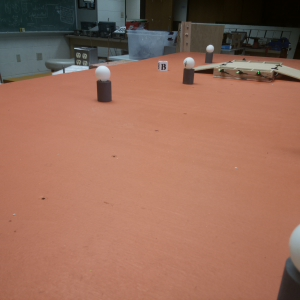blockB: (157, 60, 168, 70)
corner: (179, 21, 191, 53)
obstacle: (277, 222, 300, 291), (95, 66, 114, 102), (183, 56, 196, 85), (205, 44, 214, 63)
side: (214, 66, 274, 82)
slope: (278, 65, 300, 82)
